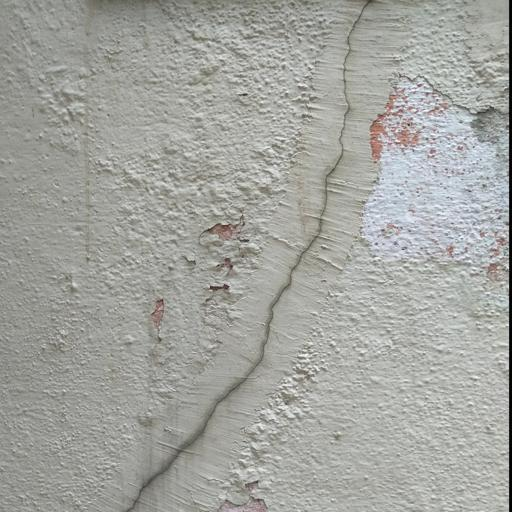minor_crack: (114, 0, 398, 512)
